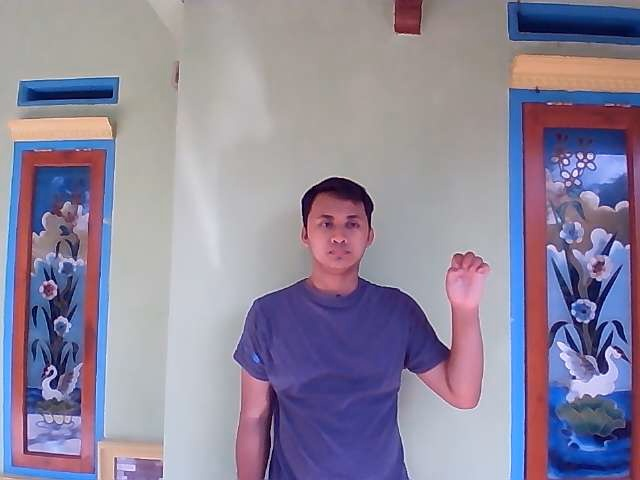E: (443, 249, 491, 304)
